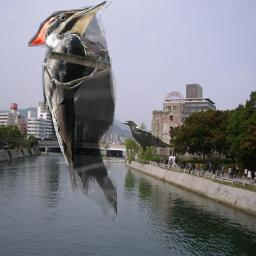Crow: (122, 120, 176, 156)
Woodpecker: (28, 0, 117, 226)
